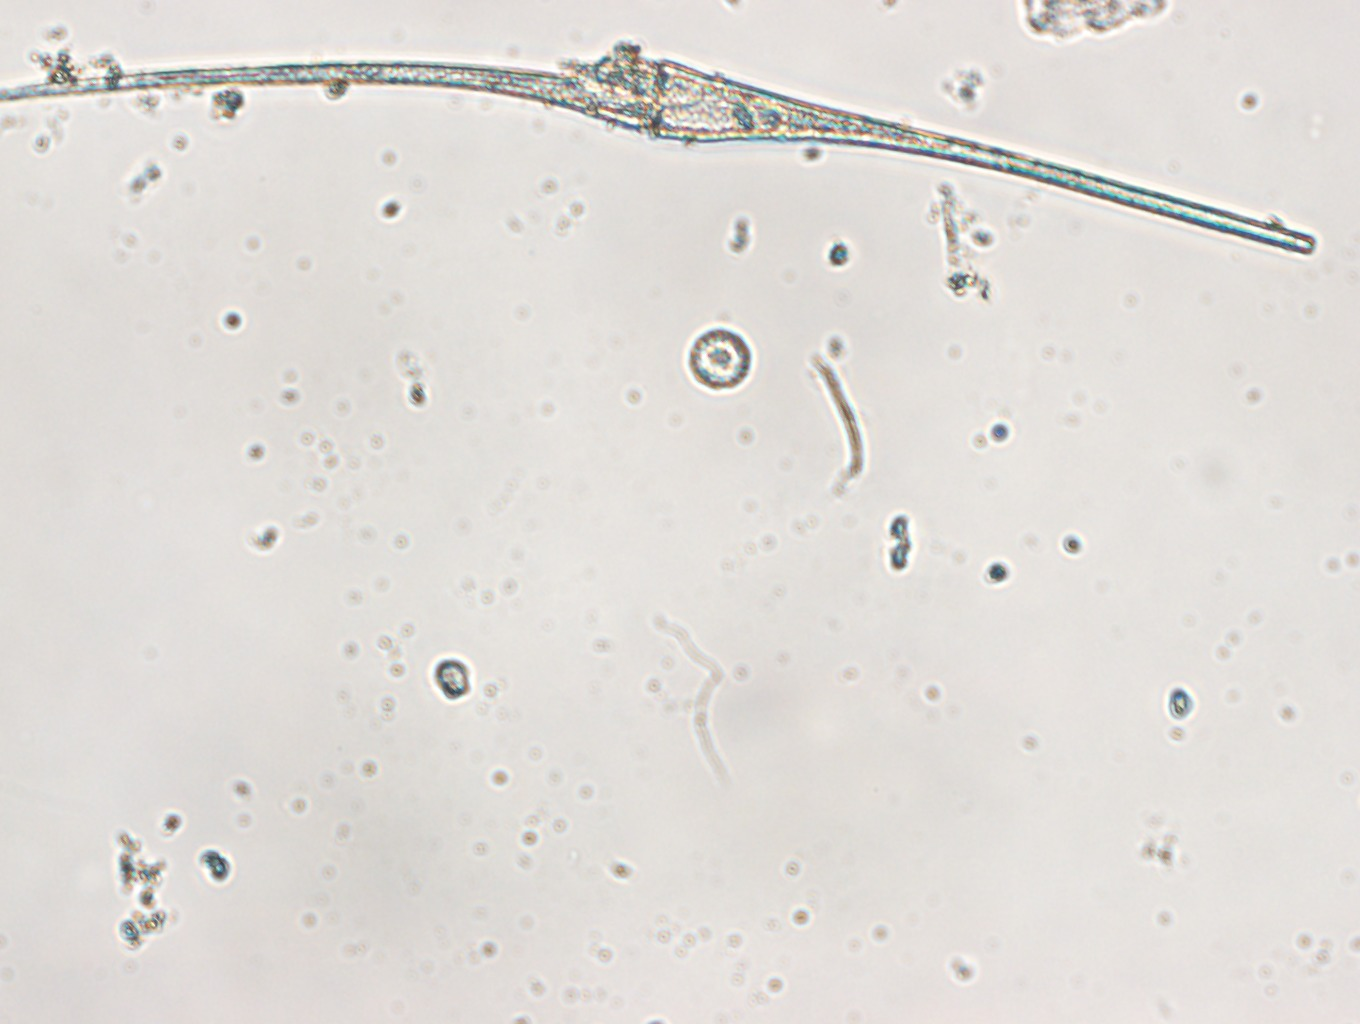ceratium fusus: (1, 51, 1317, 259)
